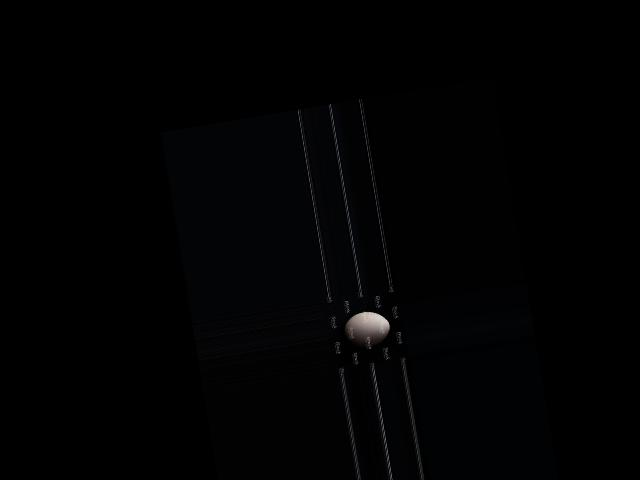egg: (341, 308, 392, 351)
